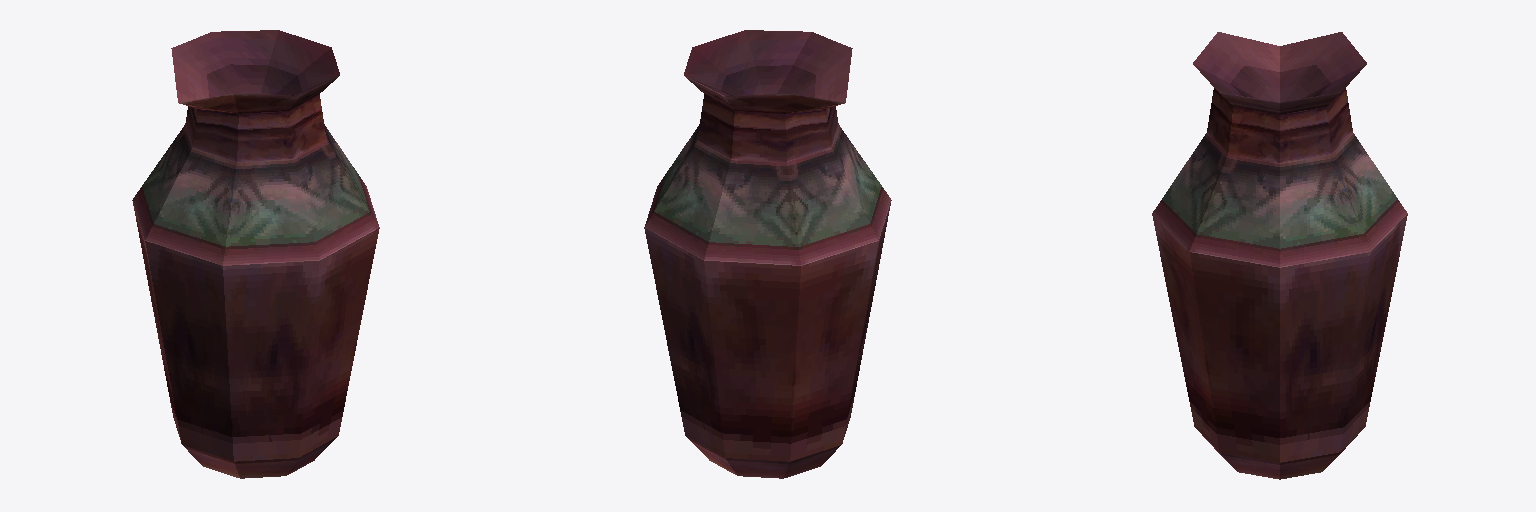
The picture shows the model from 3 angles: view 1: azimuth 30°, elevation 25°; view 2: azimuth 150°, elevation 25°; view 3: azimuth 270°, elevation 25°; orthographic projection.
Visible parts, largest first — view 1: object 1; view 2: object 1; view 3: object 1.
Boxes of the visible parts, x1,y1,x2,y2 form: object 1: [132, 30, 379, 478]; object 1: [644, 30, 891, 478]; object 1: [1152, 32, 1407, 479].
Size of the model in its own units: 1.39 by 2.37 by 1.39.
1 materials, 1 textured.